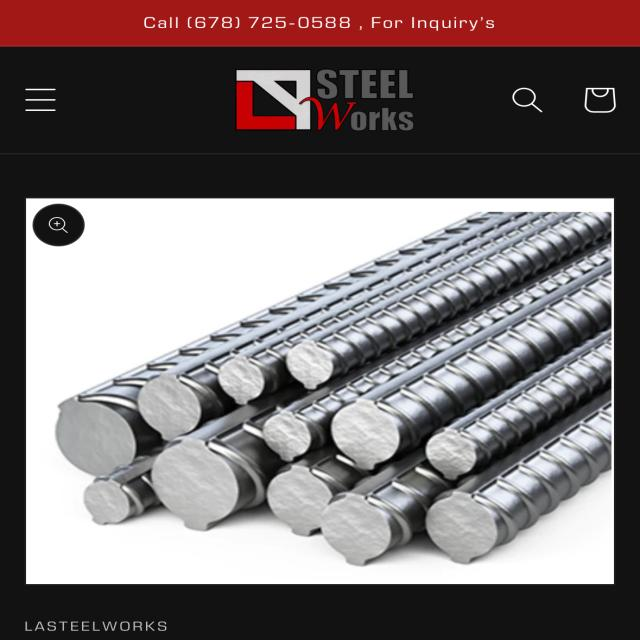Rebar: (45, 398, 148, 480), (156, 441, 245, 525), (264, 466, 370, 536), (431, 496, 516, 563), (130, 375, 210, 441), (326, 495, 406, 560), (338, 396, 408, 468), (210, 357, 269, 408), (278, 345, 336, 394), (425, 429, 487, 472), (260, 411, 308, 461)
